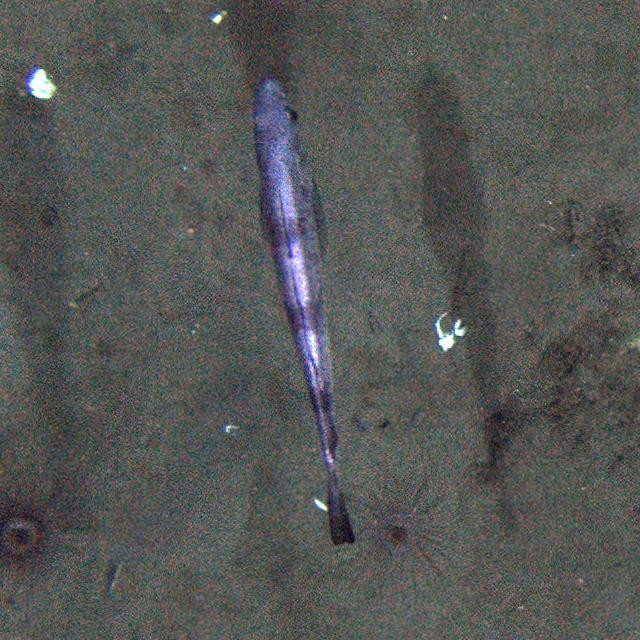roundfish: (248, 76, 360, 550)
